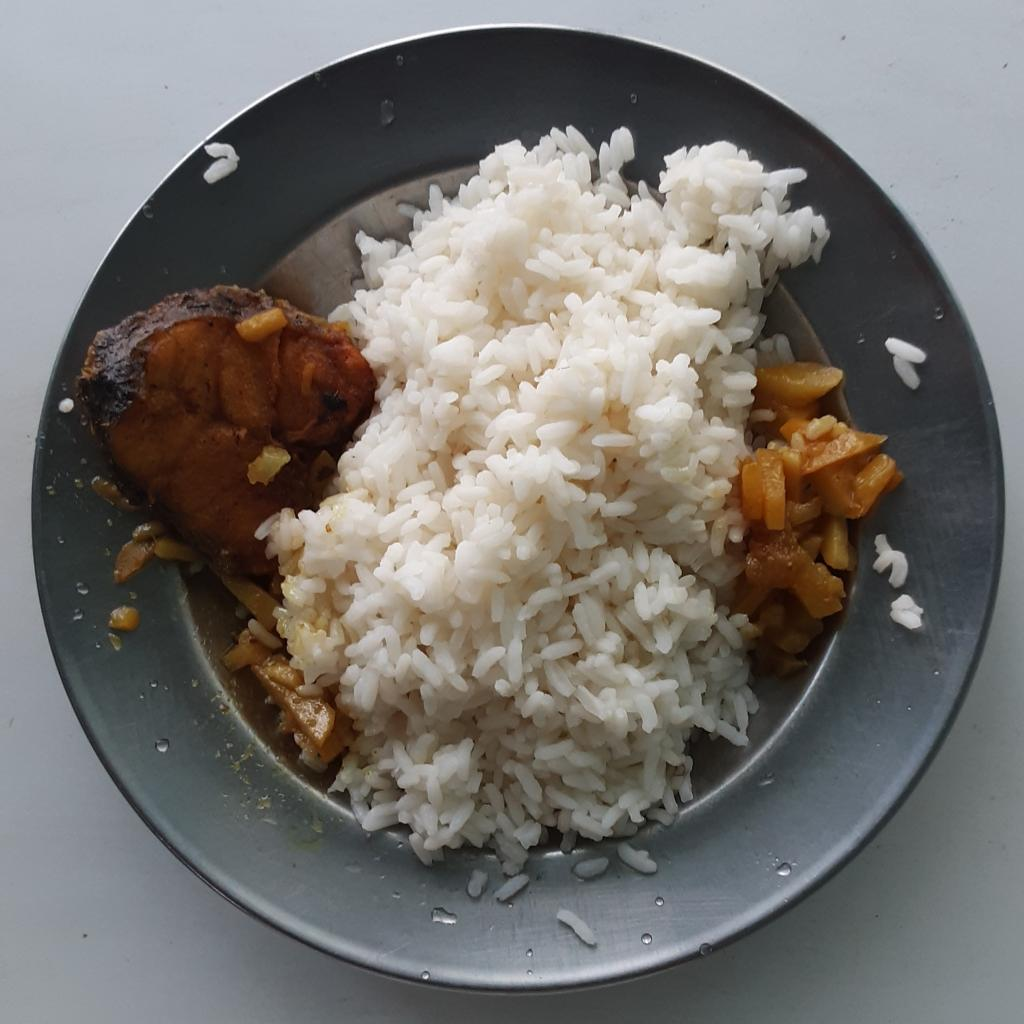fish: (74, 287, 373, 572)
potato: (736, 351, 907, 671), (212, 575, 338, 751)
rice: (250, 120, 829, 900), (893, 342, 935, 387), (548, 910, 599, 944), (874, 540, 912, 581), (203, 143, 238, 185), (894, 584, 921, 630)
